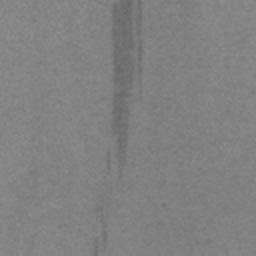Red iron sheet: (110, 0, 145, 179)
